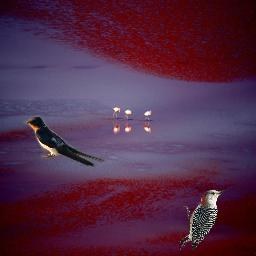Swallow: (22, 114, 105, 167)
Woodpecker: (180, 189, 228, 250)
